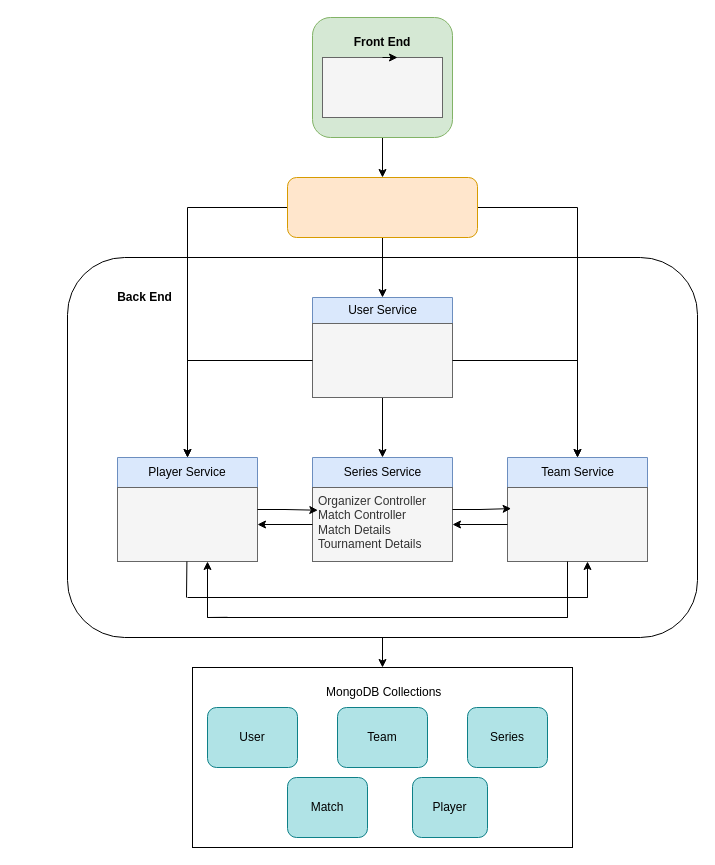
The diagram is 715 pixels wide and 865 high, and some of its shapes have lost their labels. The shapes that lost their labels are listed below. From the top down, each one's centre as x and y in pixels, then its label:
At (382,87): "Web UI".
At (382,207): "API Gateway".
At (382,360): "Authentication User Details".
At (187,524): "Player Details Player Controller Player Statistics".
At (577,524): "Team Details Team Controller".
